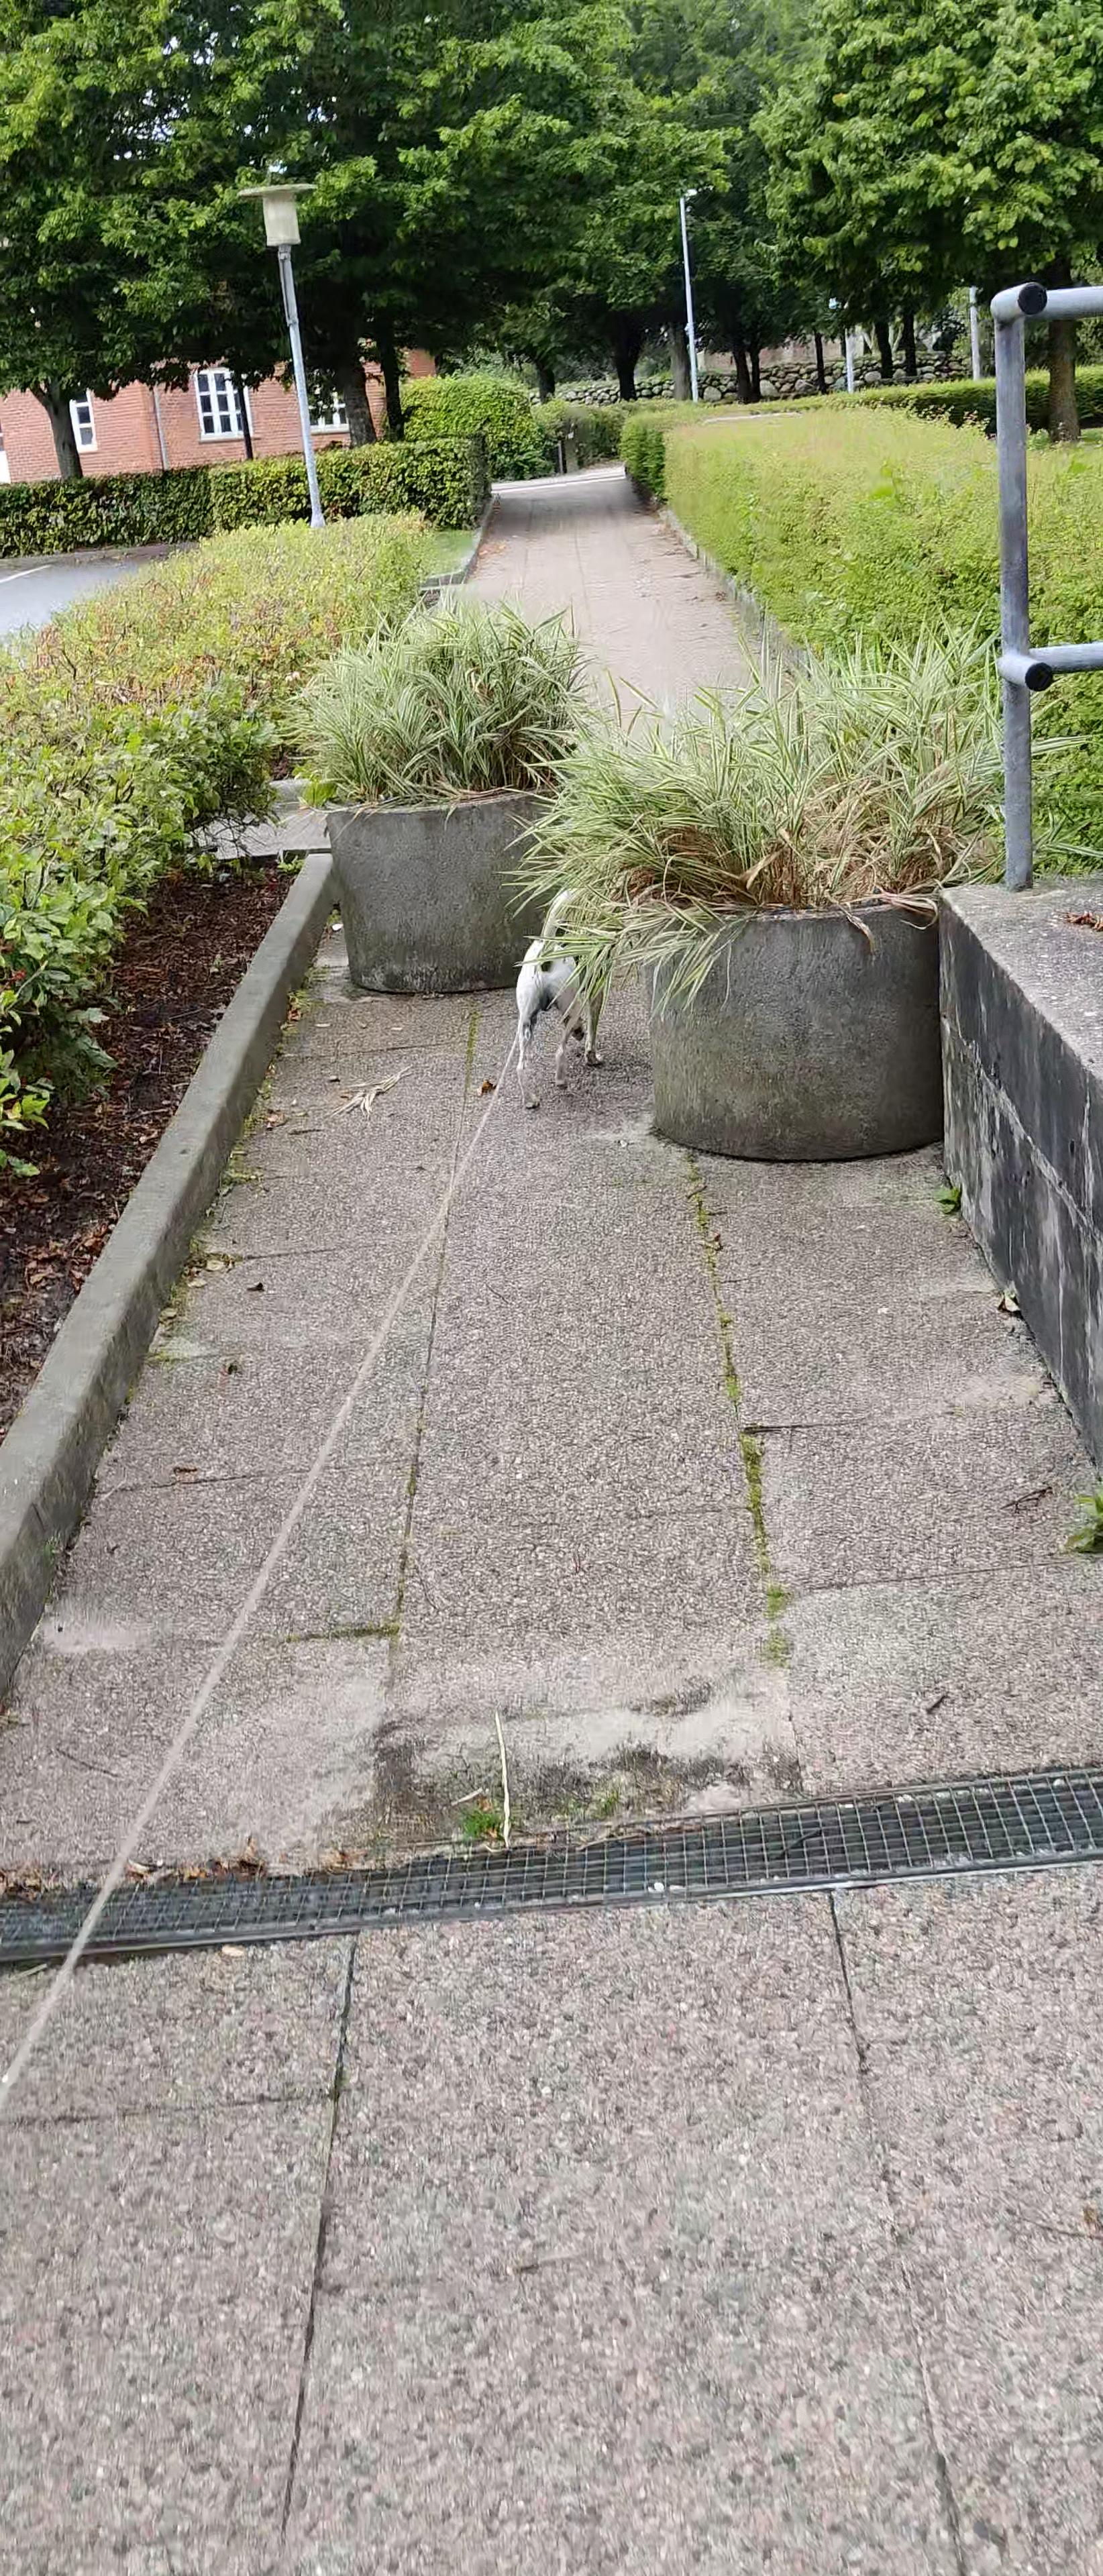Dog: (511, 885, 621, 1111)
